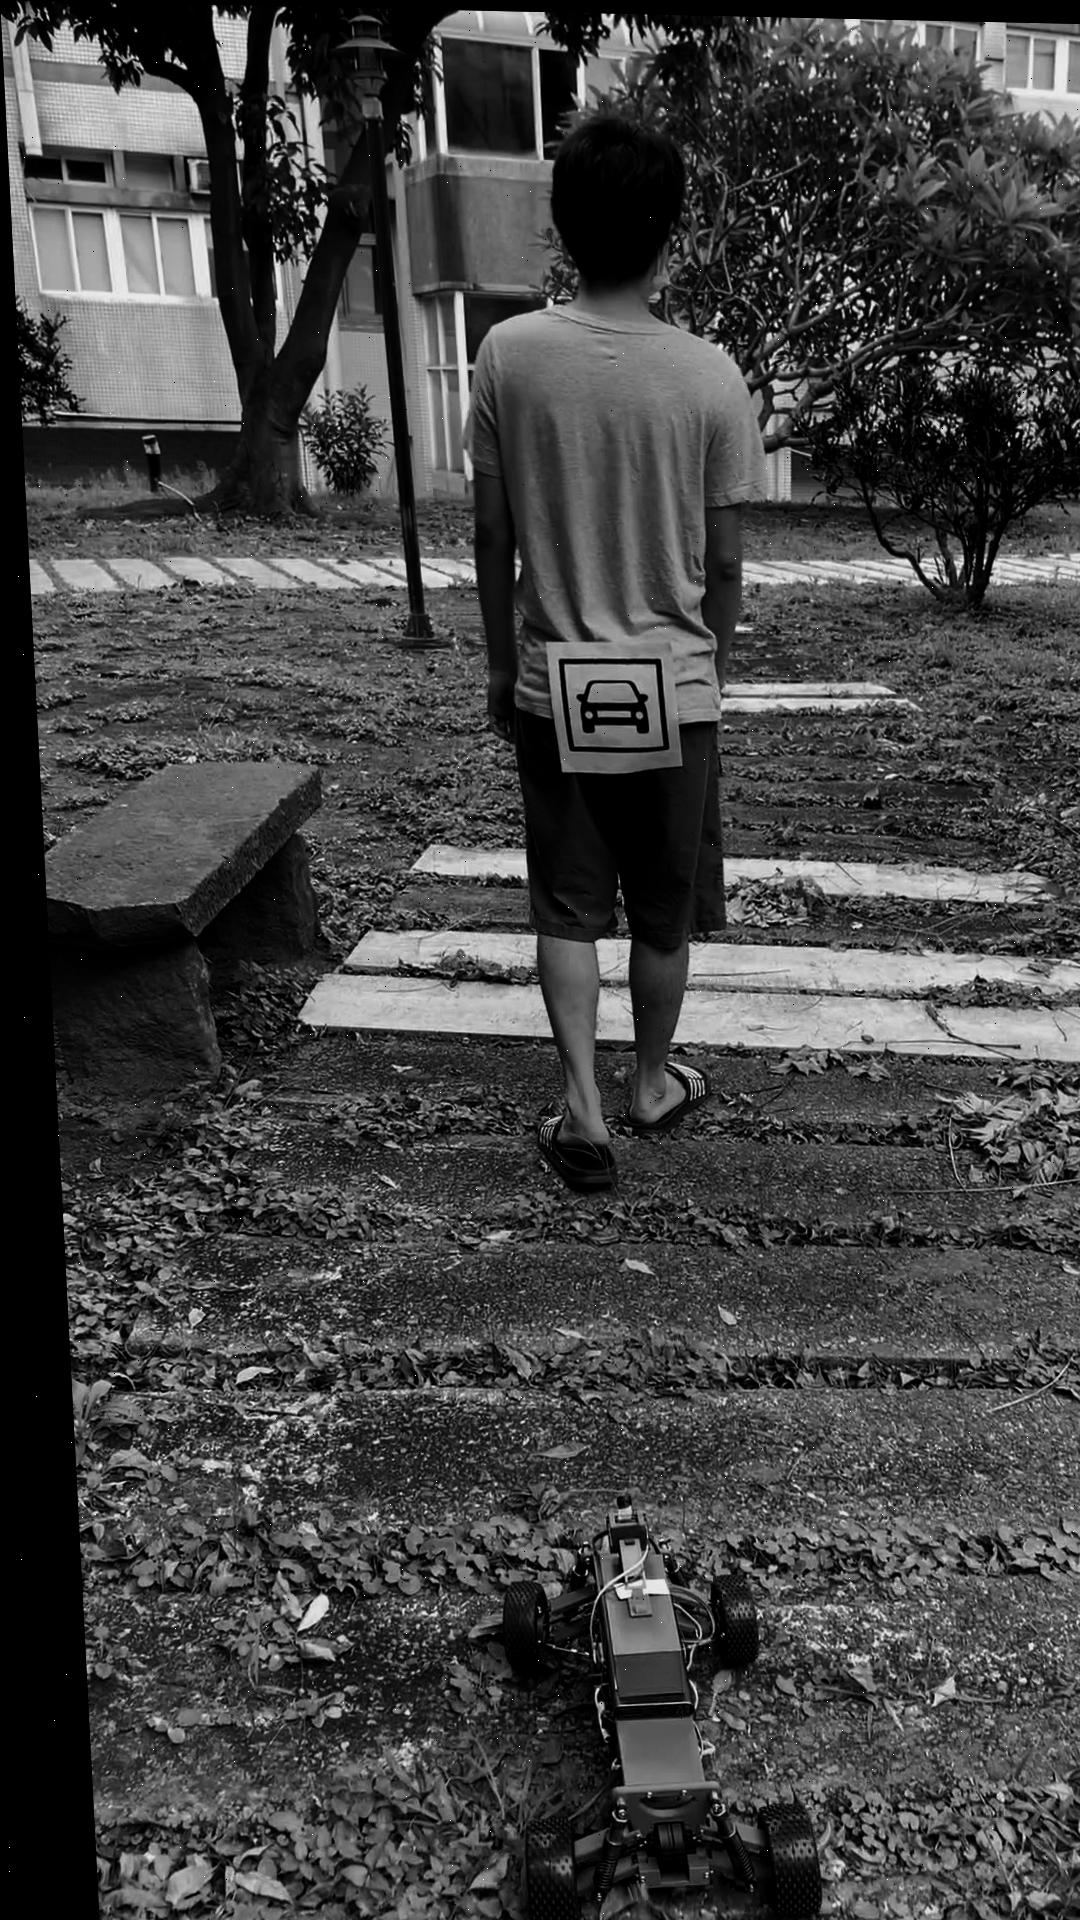car_img: (551, 653, 663, 752)
